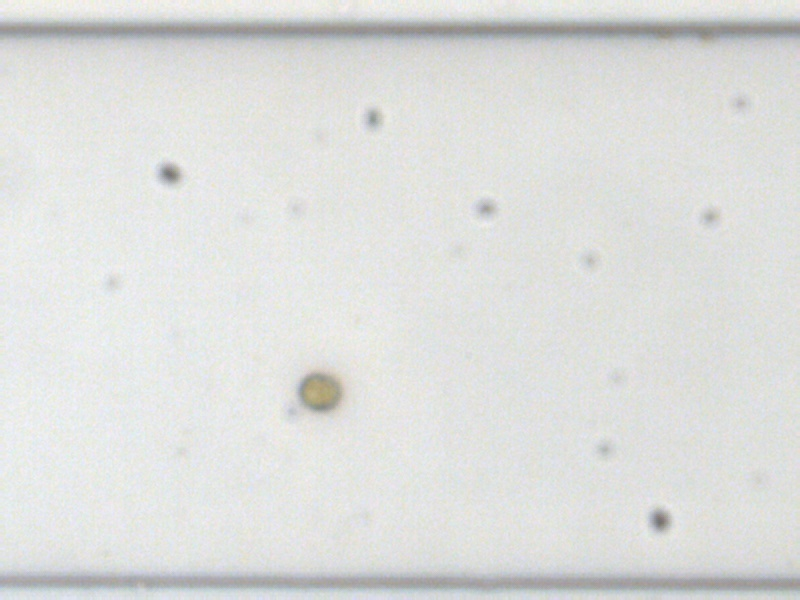Effrenium: (294, 368, 342, 413)
